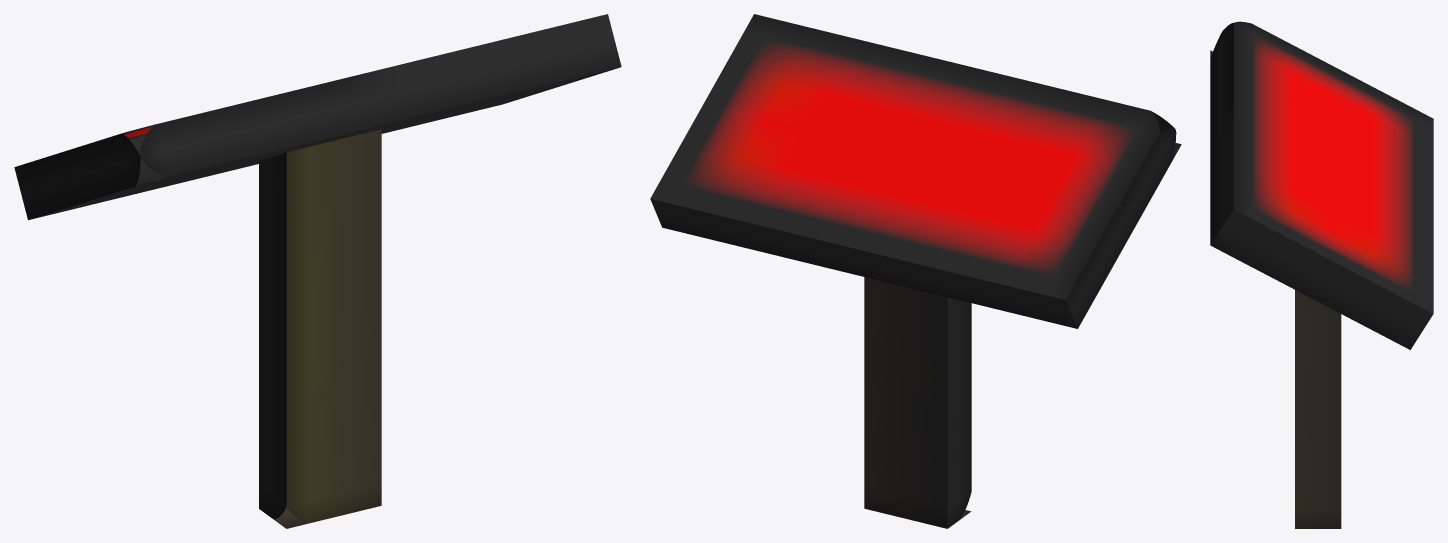
Rendered from launcher_control_panel_t2.obj.
3 views of the same model, side by side, from view 1: azimuth 30°, elevation 25°; view 2: azimuth 150°, elevation 25°; view 3: azimuth 270°, elevation 25° (orthographic). The views are drawn at different scales.
Parts seen in each view (by area): view 1: Stand, Screen; view 2: Screen, Stand; view 3: Screen, Stand.
Part boxes in pixels (left/top/right/bottom): Stand: left=259, top=129, right=381, bottom=528; Screen: left=14, top=14, right=621, bottom=220; Screen: left=650, top=14, right=1181, bottom=328; Stand: left=864, top=277, right=971, bottom=528; Screen: left=1210, top=21, right=1433, bottom=349; Stand: left=1295, top=290, right=1341, bottom=528.
Bounding box in the file's own units: 0.625 × 0.5938 × 0.3019.
